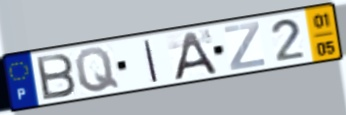2: (270, 18, 308, 63)
A: (172, 29, 220, 82)
B: (33, 51, 78, 102)
I: (142, 38, 161, 84)
Q: (73, 46, 122, 94)
Z: (222, 20, 267, 72)
